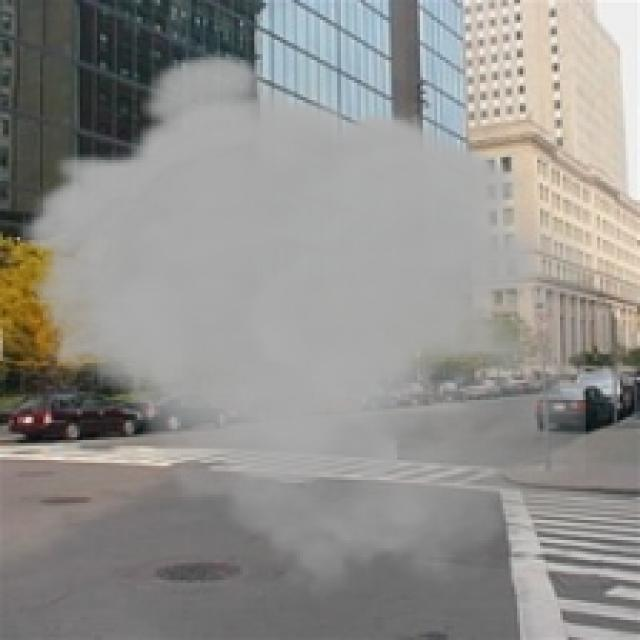smoke: (17, 48, 586, 603)
